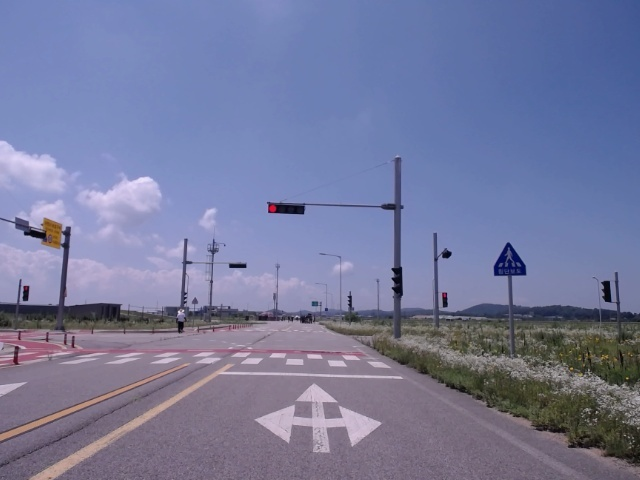red_4: (268, 204, 304, 215)
